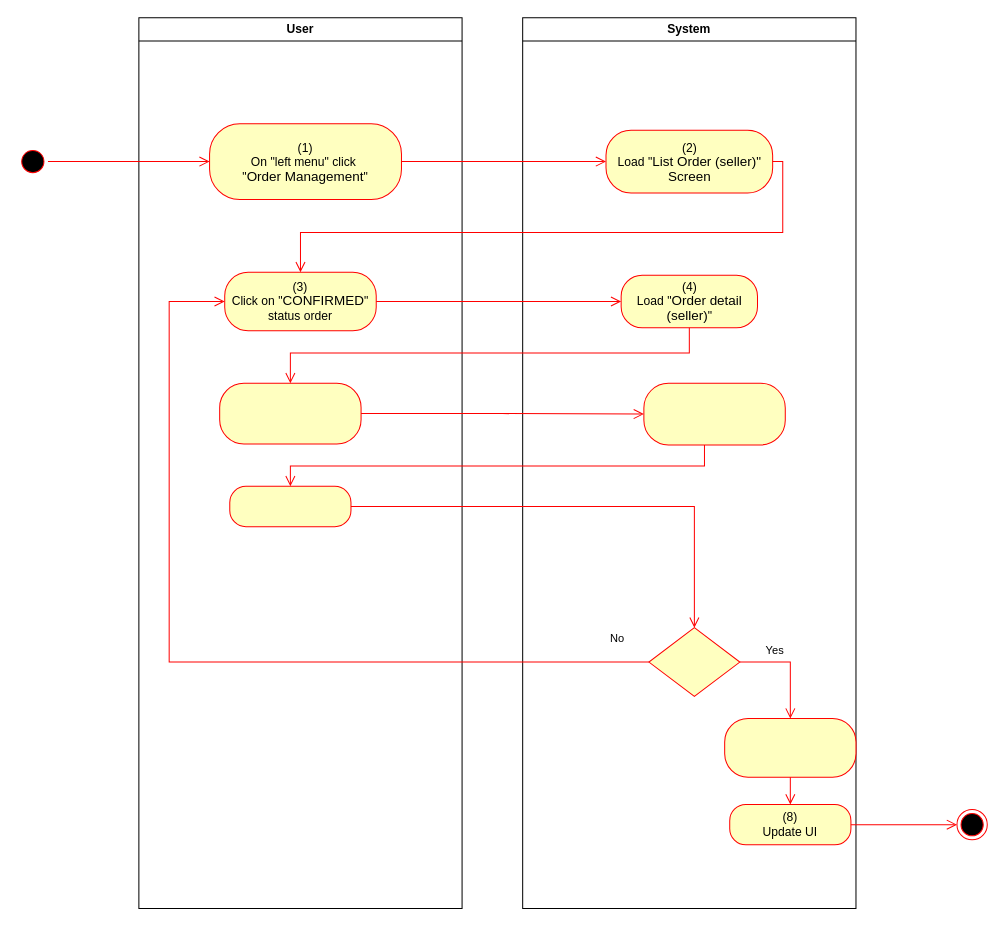
Some shapes in this 1005 by 926 pixel diagram are drawn without their labels. Here are the shapes that lost their labels. From the top down, the centre of each, then its label:
pixel 290 413: (5) Click button " Giao bên vận chuyển "
pixel 714 413: (6) Load " Yes/No dialog"
pixel 290 506: (7) Click "Yes" or "No" button
pixel 790 747: (7.1) Update order status to DB
